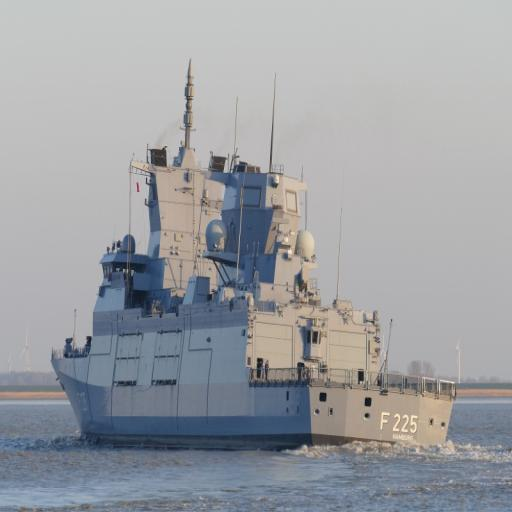Fragata: (50, 49, 458, 451)
